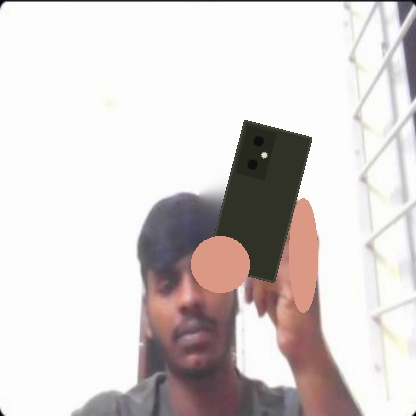cell_phone: (206, 119, 312, 283)
